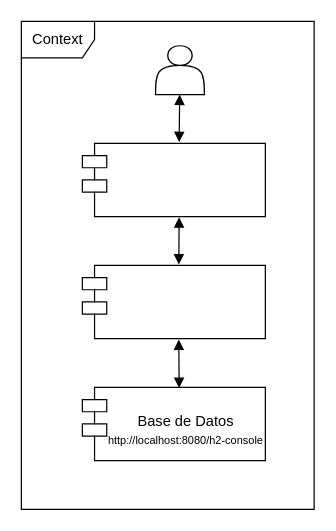
This 336x531 diagram has some shape labels left out. Here are the shapes that lost their labels. From the top down, the box of each, then its label:
(81, 142, 265, 217): Aplicación Web http://localhost:3000/
(81, 264, 265, 339): API Gateway http://localhost:8080/
